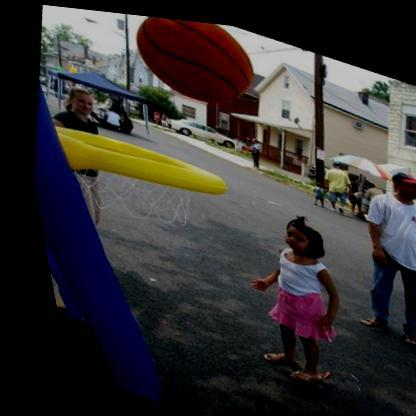basketball: (119, 10, 266, 110)
